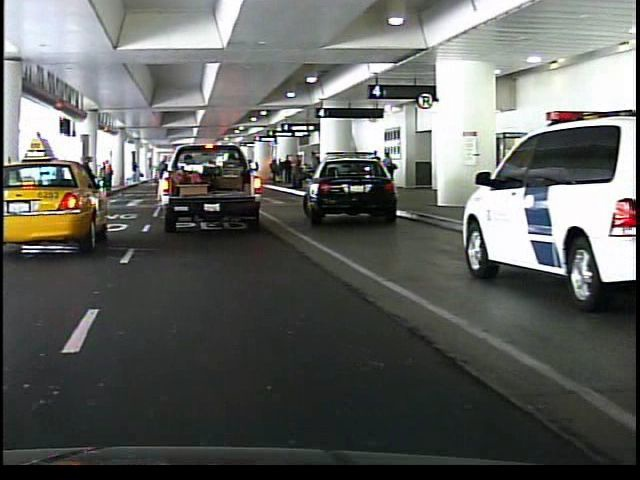person: (152, 151, 165, 203)
